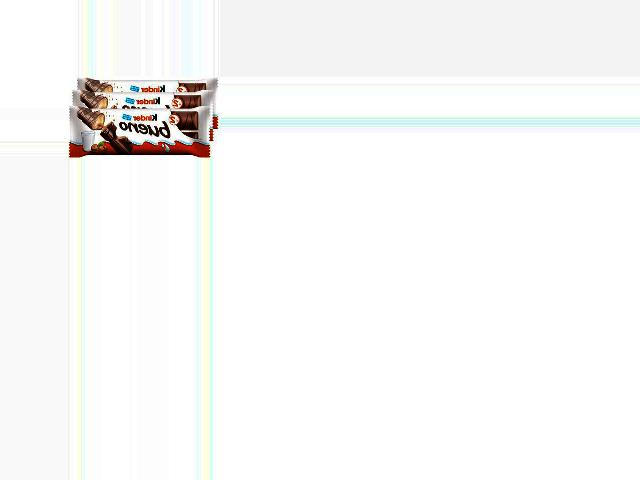chocolate: (72, 77, 217, 158)
